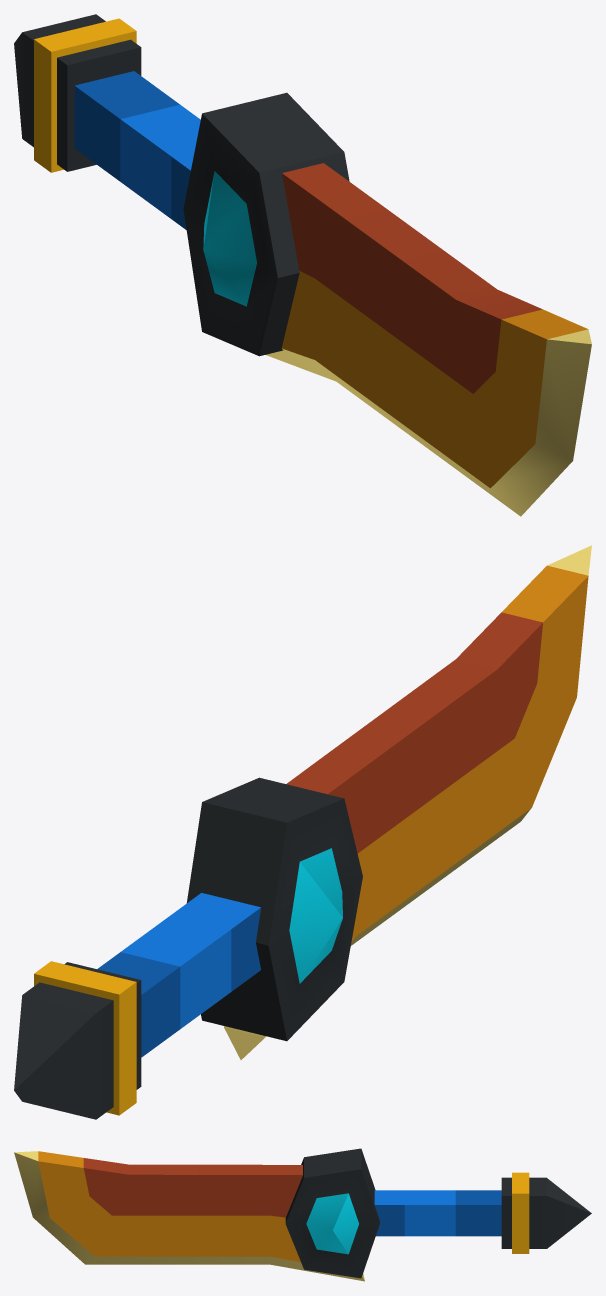
The model's file is Sword 06.FBX.
3 views of the same model, one above another, from view 1: azimuth 30°, elevation 25°; view 2: azimuth 150°, elevation 25°; view 3: azimuth 270°, elevation 25° (orthographic). The views are drawn at different scales.
Parts seen in each view (by area): view 1: Sword 06; view 2: Sword 06; view 3: Sword 06.
Boxes of the visible parts, bbox=[...] form: Sword 06: bbox=[14, 14, 591, 516]; Sword 06: bbox=[14, 545, 591, 1119]; Sword 06: bbox=[14, 1148, 591, 1281].
Size of the model in its own units: 13.7 by 24.21 by 98.17.
Materials: 1 (1 with a texture image).
